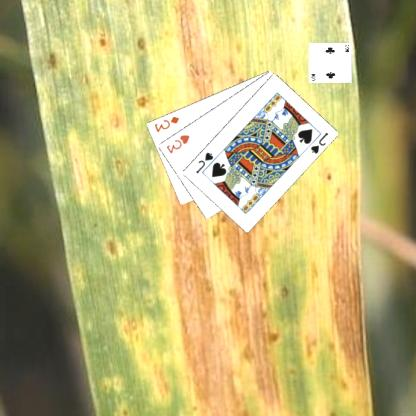3D: (153, 113, 182, 134)
3H: (166, 132, 192, 155)
JS: (309, 130, 331, 155), (195, 149, 216, 175)
